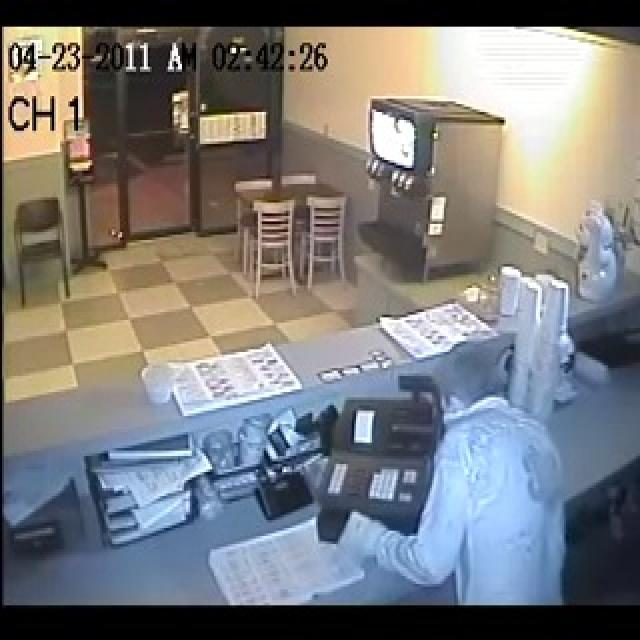thief: (376, 341, 580, 604)
